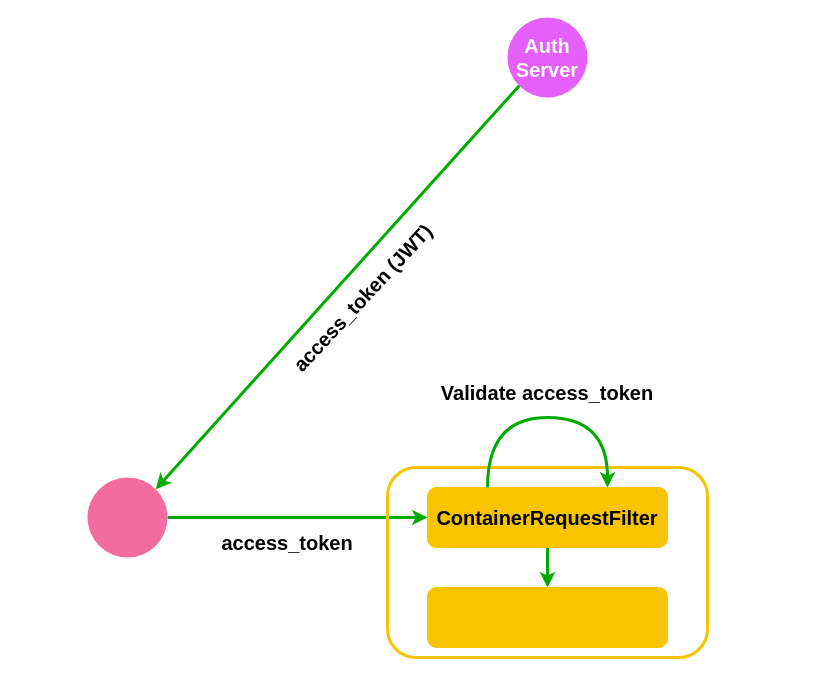
Image size: 834x676. Some labels were removed from this diagram. Each missing label, with the centre of its shape:
"Endpoints" goes at [547,617].
"OAuth Client" goes at [127,517].
